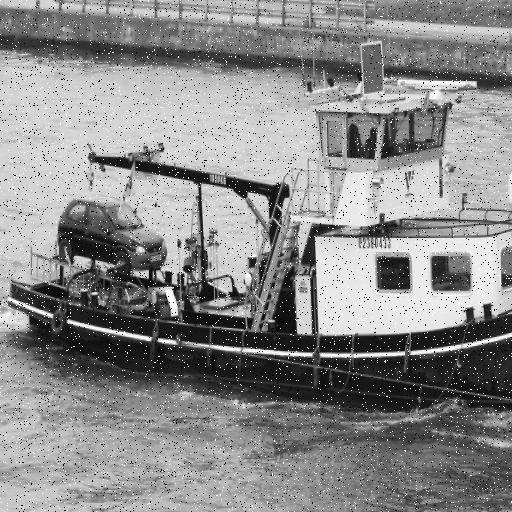tugboat: (5, 36, 512, 432)
